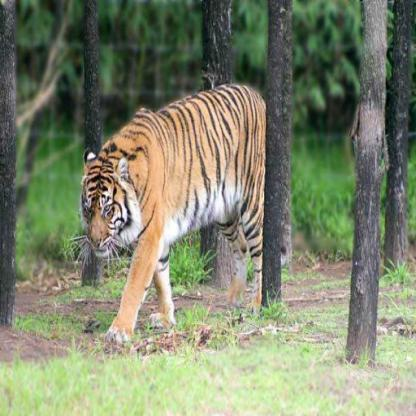Tiger: (62, 78, 315, 367)
